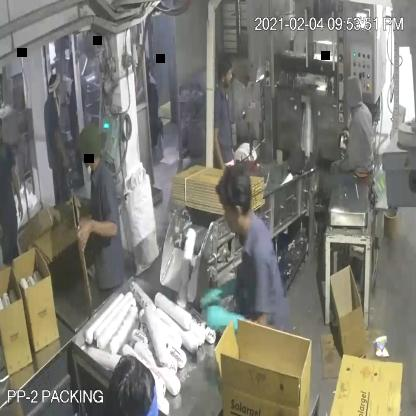glove: (201, 302, 250, 348), (195, 279, 241, 315)
no_glove: (75, 210, 118, 254), (9, 160, 30, 223), (50, 117, 70, 170), (210, 119, 227, 180)
